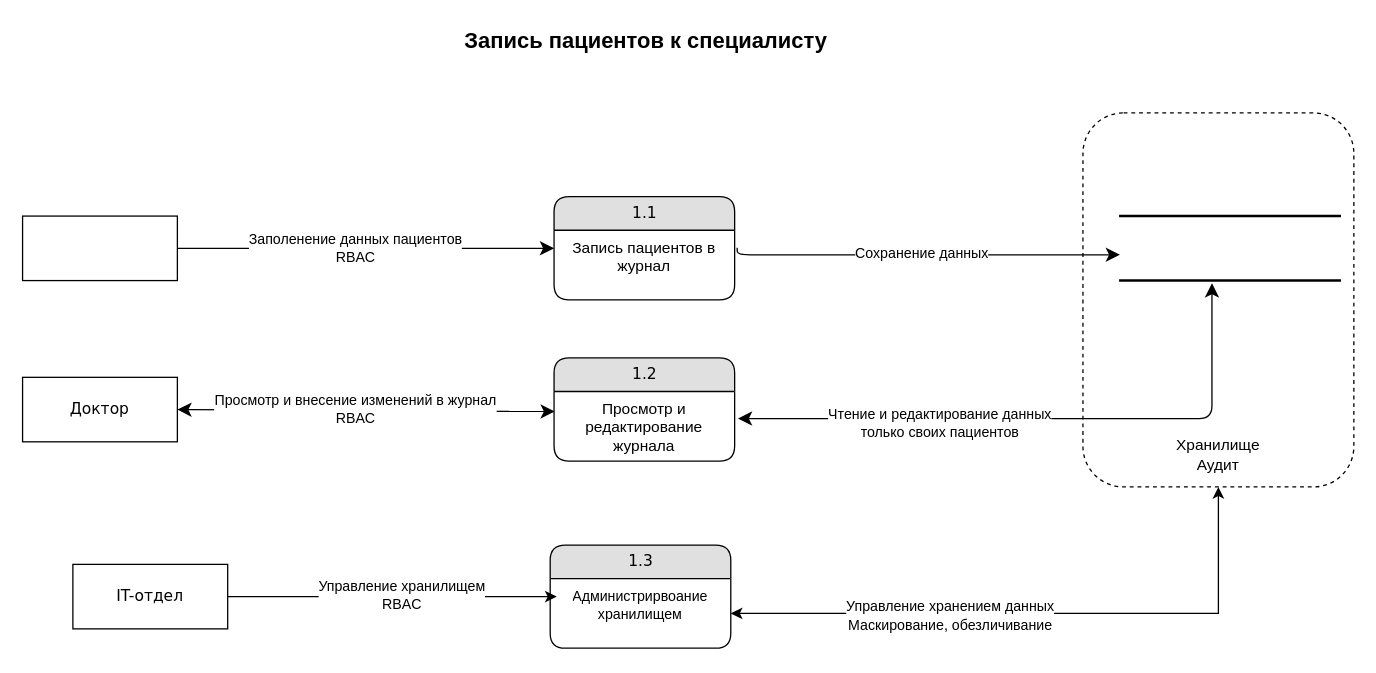
This 1376x673 diagram has some shape labels left out. The centre of each missing label's shape, as x and y in pixels:
"Журнал приема пациентов Excel file" goes at (1229,247).
"Ресепшен" goes at (99,248).
